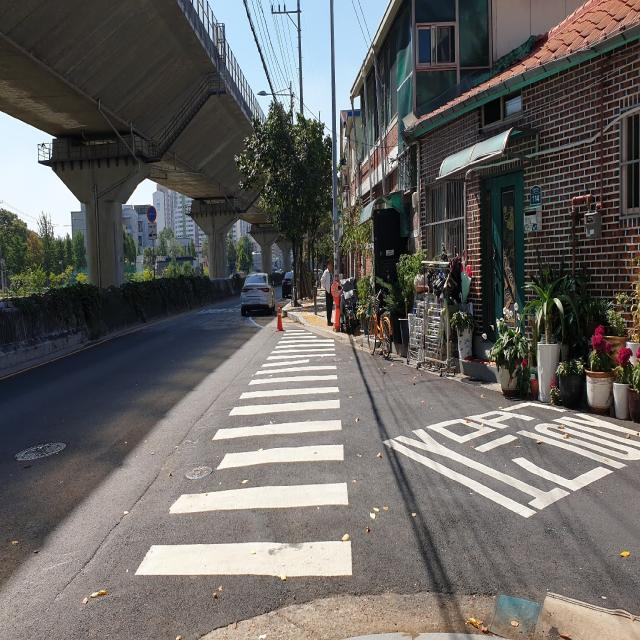횡단보도: (133, 326, 354, 580)
